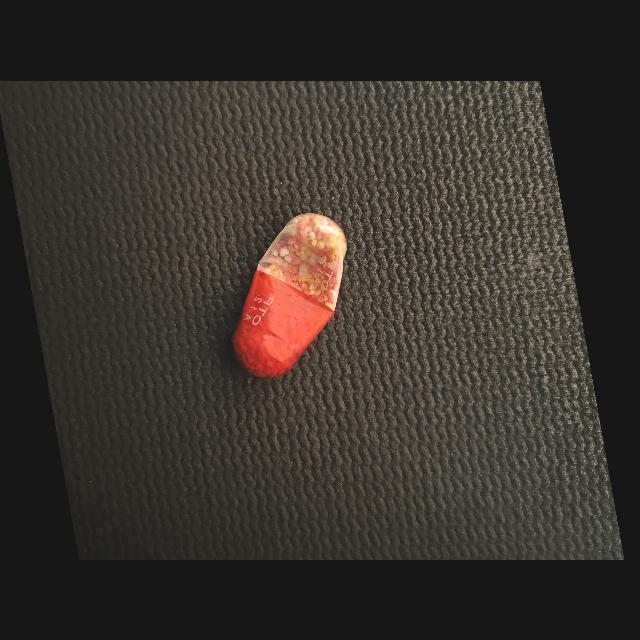Defective Capsule: (232, 213, 347, 377)
